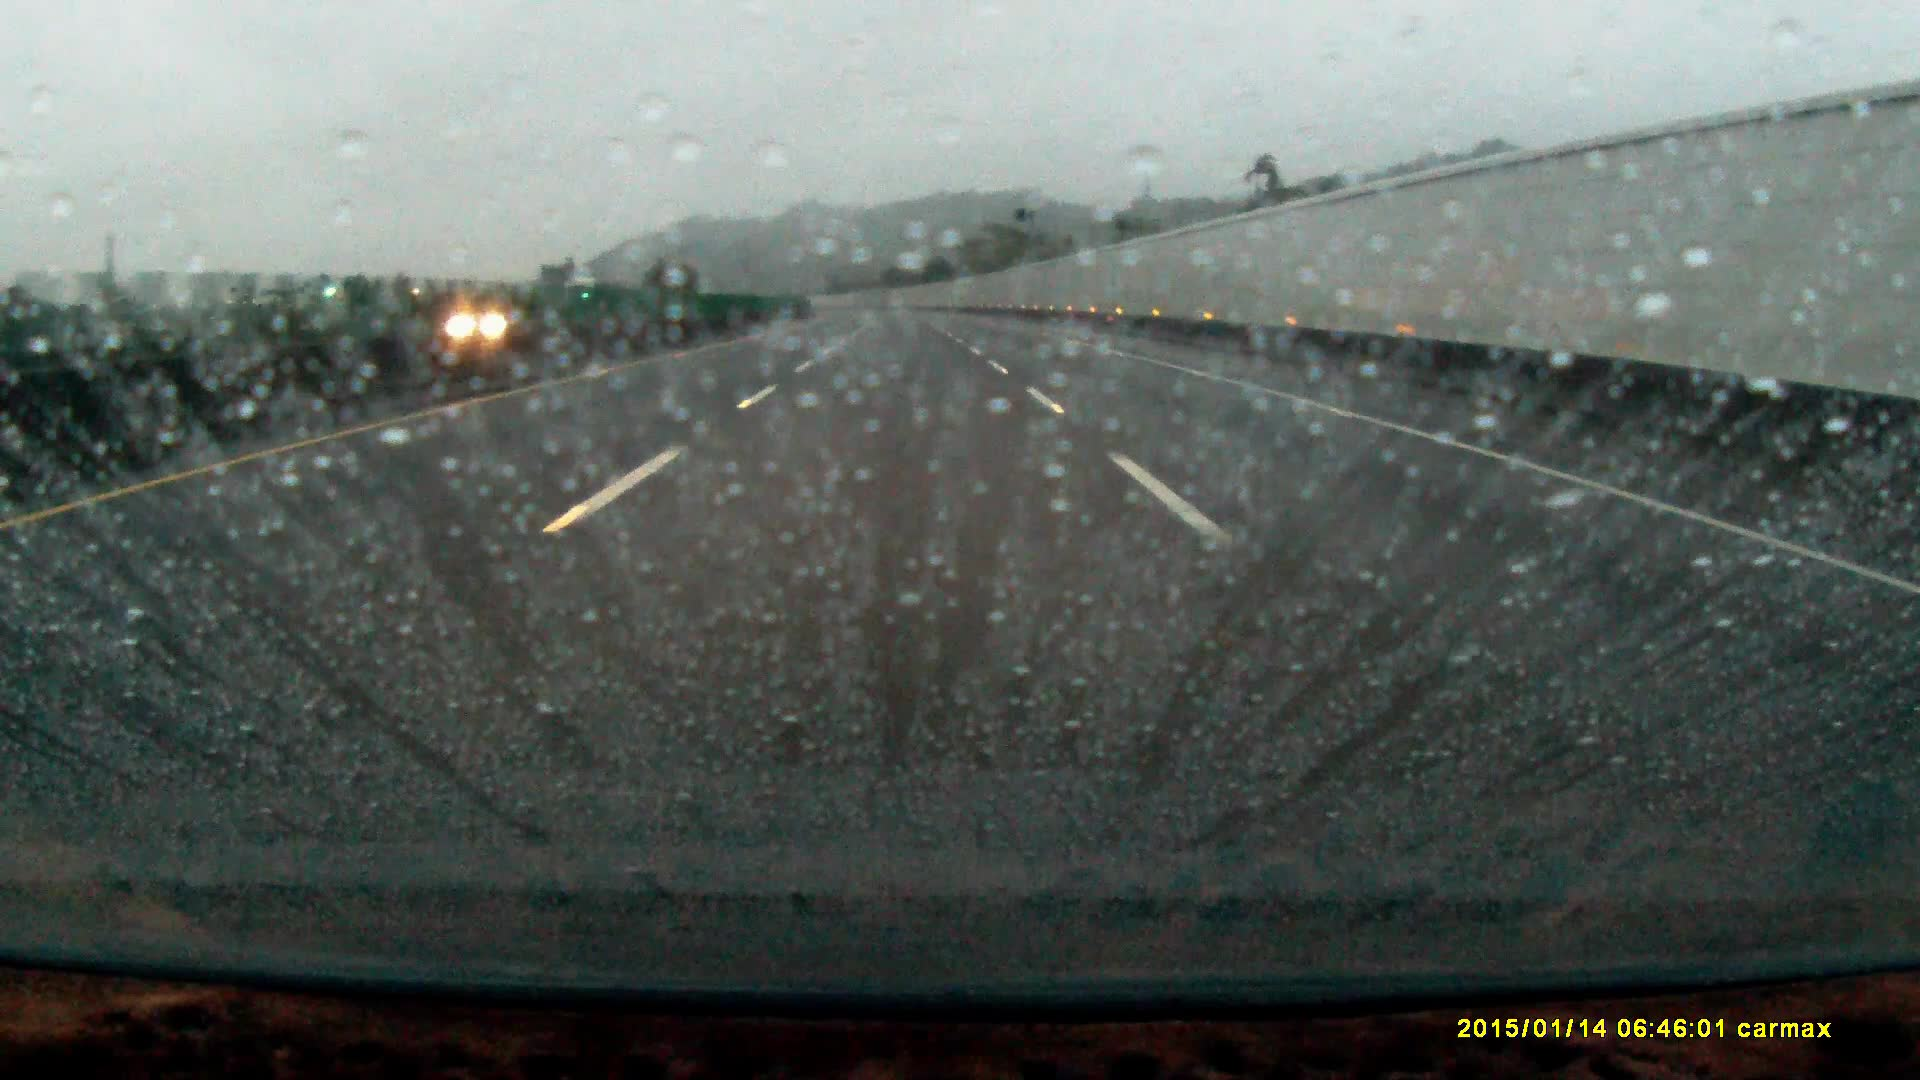vehicle: (448, 302, 529, 339)
